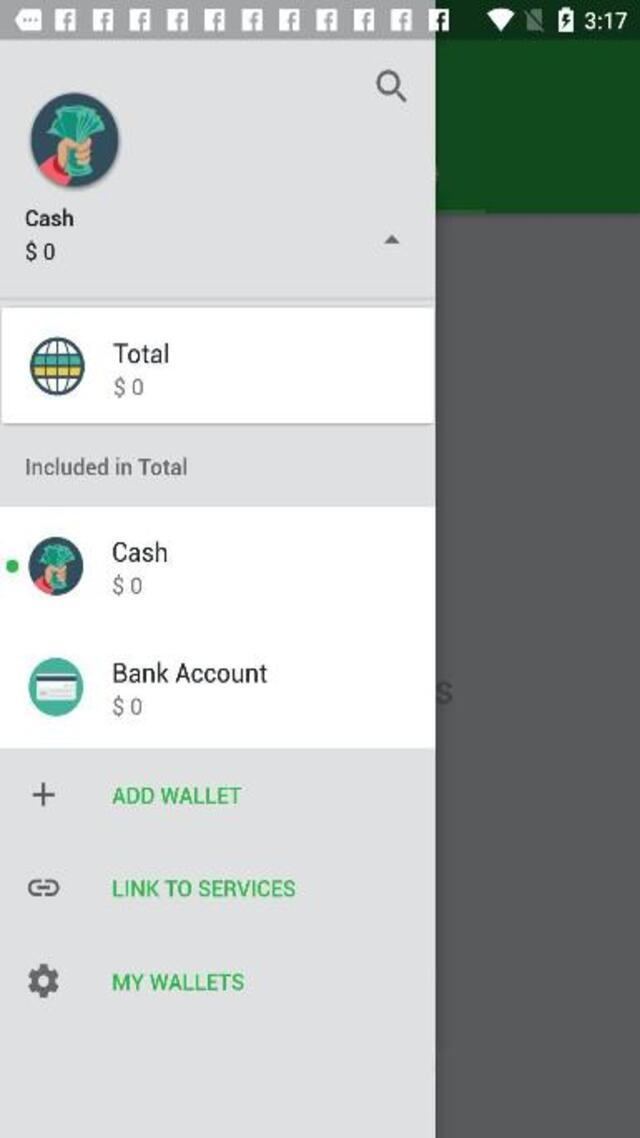Icon: (30, 337, 86, 396), (29, 536, 84, 595), (29, 657, 84, 716), (374, 68, 406, 102), (28, 962, 58, 996), (27, 878, 59, 896), (32, 784, 54, 806), (384, 233, 401, 244)
Image: (31, 93, 119, 188)
Text: (113, 879, 296, 899), (25, 456, 188, 476), (114, 662, 268, 682), (112, 972, 244, 990), (111, 786, 241, 804), (112, 540, 167, 562), (115, 344, 168, 364), (26, 207, 74, 227), (112, 694, 142, 718), (25, 239, 55, 262), (112, 574, 140, 596), (113, 376, 143, 396)
